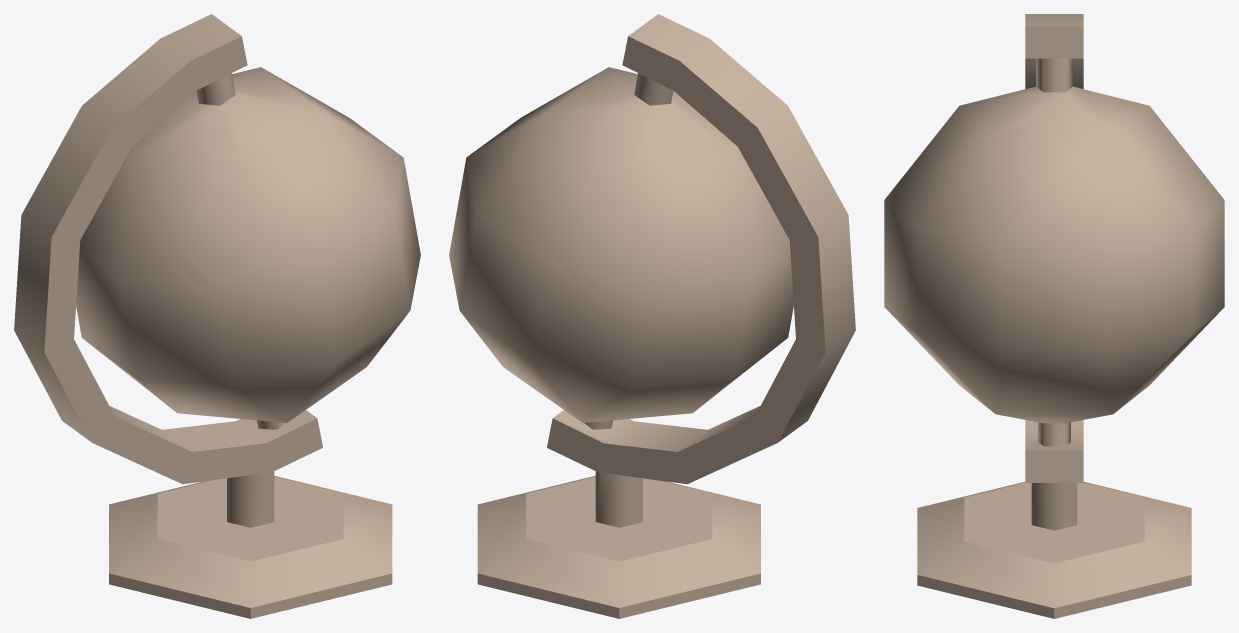
Rendered from F_bossromm_globe.fbx.
The picture shows the model from 3 angles, left to right: view 1: azimuth 30°, elevation 25°; view 2: azimuth 150°, elevation 25°; view 3: azimuth 270°, elevation 25°; orthographic projection. The views are drawn at different scales.
Parts seen in each view (by area): view 1: globe; view 2: globe; view 3: globe.
Boxes of the visible parts, x1,y1,x2,y2 form: globe: [14, 14, 420, 618]; globe: [449, 14, 855, 618]; globe: [884, 14, 1224, 618].
Bounding box in the file's own units: 39.53 × 54.98 × 32.98.
